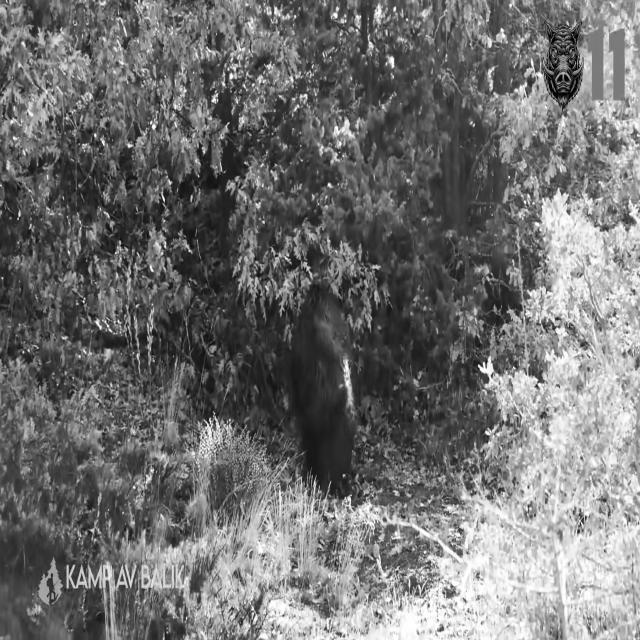boar: (291, 284, 354, 488)
